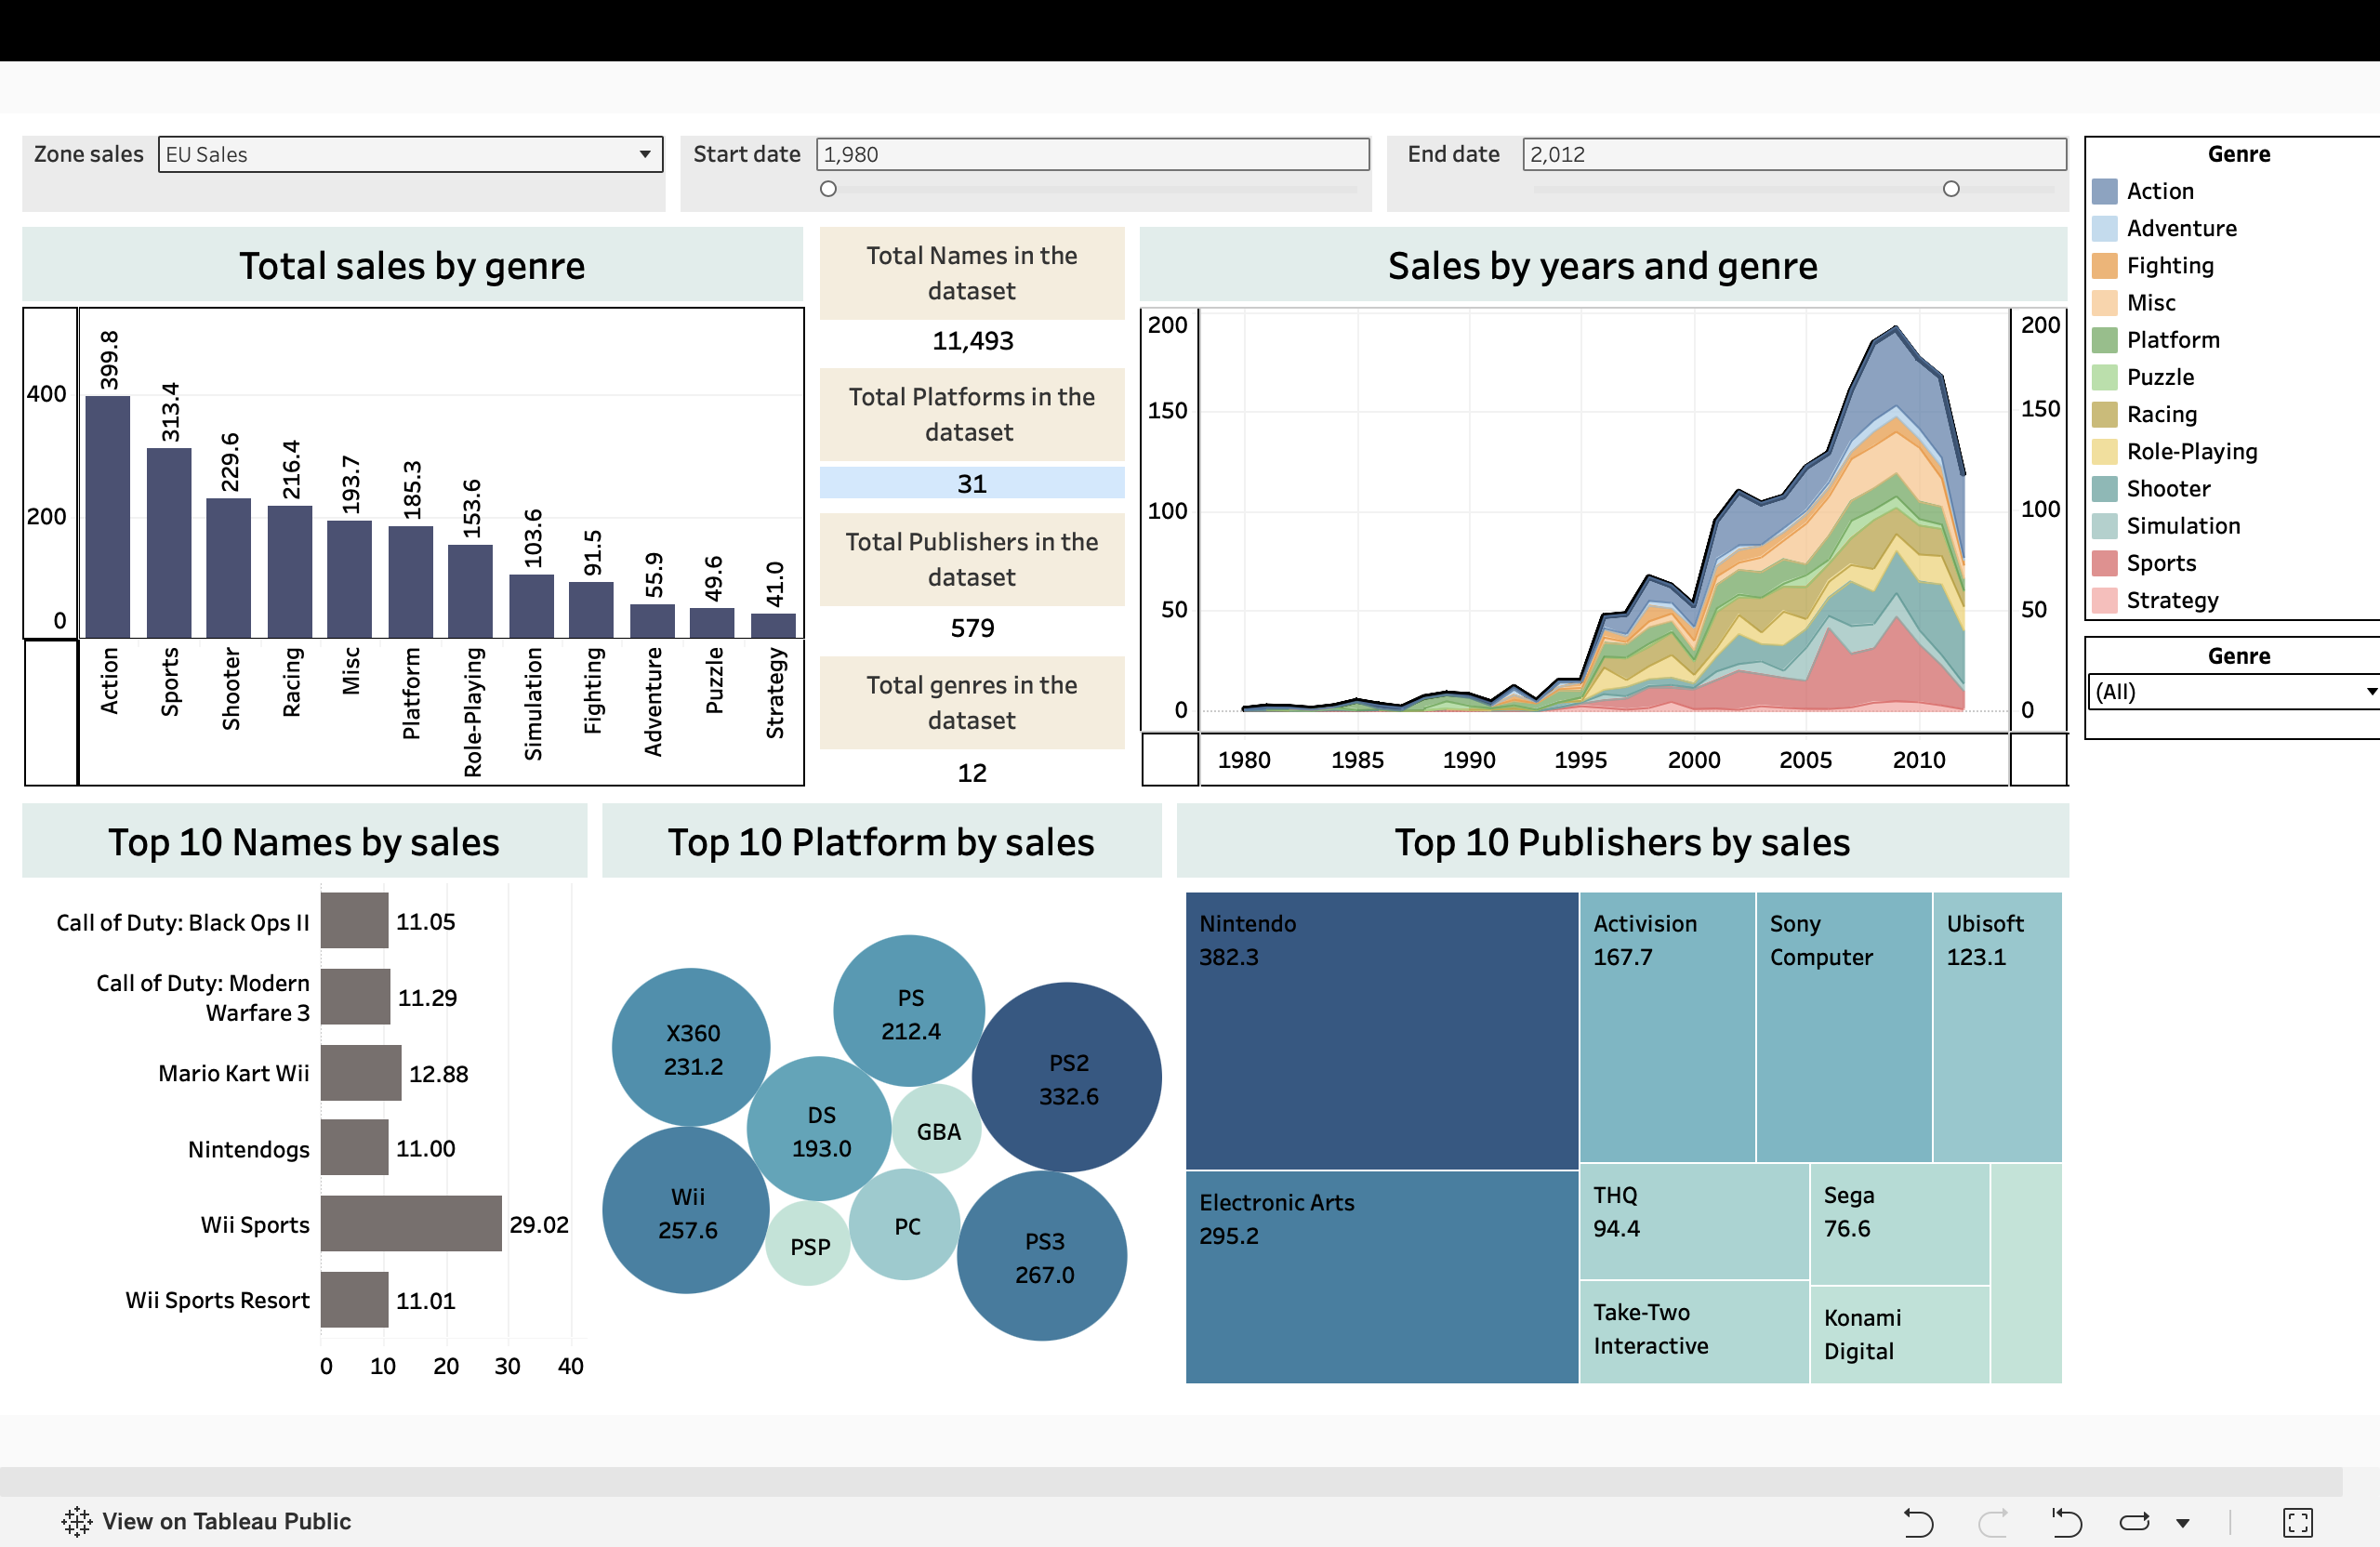

This screenshot's page, from the dashboard's own definition file:
{"tool":"tableau","page":{"name":"Global Video Game Sales Analytics Dashboard","canvas":[1300,700],"ordinal":0},"visuals":[{"type":"parameter","param":"[Parameters].[Parameter 2963771591692289]","box":[8,8,354,48.7]},{"type":"parameter","param":"[Parameters].[Parameter 2963771595165700]","box":[362,8,379.6,48.7]},{"type":"parameter","param":"[Parameters].[Parameter 2963771595337733]","box":[741.5,8,375.5,48.7]},{"type":"legend","title":"Sales by years and genre","param":"[federated.03yfix31b5uypm1bdwjye0vh6bp6].[none:Genre:nk]","box":[1117,8,175,268]},{"type":"worksheet","title":"Total sales by genre","mark":"Automatic","rows":["Calculation_2963771592220674"],"cols":["Genre"],"box":[8,56.7,429.2,309.8]},{"type":"worksheet","title":"Total Names in the dataset","mark":"Automatic","box":[437.2,56.7,171.4,76.3]},{"type":"worksheet","title":"Sales by years and genre","mark":"Automatic","rows":["Calculation_2963771592220674","Calculation_2963771592220674"],"cols":["Year"],"box":[608.6,56.7,508.4,309.8]},{"type":"worksheet","title":"Total Platforms in the dataset ","mark":"Automatic","box":[437.2,133,171.4,78.3]},{"type":"worksheet","title":"Total Publishers in the dataset ","mark":"Automatic","box":[437.2,211.3,171.4,76.7]},{"type":"filter","title":"Sales by years and genre","param":"[federated.03yfix31b5uypm1bdwjye0vh6bp6].[none:Genre:nk]","box":[1117,276,175,60]},{"type":"worksheet","title":"Total genres in the dataset","mark":"Automatic","box":[437.2,288,171.4,78.6]},{"type":"worksheet","title":"Top 10 Names by sales","mark":"Automatic","rows":["Name"],"cols":["Calculation_2963771592220674"],"box":[8,366.6,311.5,325.4]},{"type":"worksheet","title":"Top 10 Platform by sales","mark":"Circle","box":[319.5,366.6,309.1,325.4]},{"type":"worksheet","title":"Top 10 Publisher by sales","mark":"Automatic","box":[628.6,366.6,488.4,325.4]}]}

Visuals, with their boxes in screenshot pixels (x1, y1, x2, y2):
parameter: rect(71, 0, 709, 53)
parameter: rect(709, 0, 1395, 53)
parameter: rect(1395, 0, 2072, 53)
"Sales by years and genre" legend: rect(2072, 0, 2379, 449)
"Total sales by genre" worksheet: rect(71, 53, 845, 612)
"Total Names in the dataset" worksheet: rect(845, 53, 1155, 191)
"Sales by years and genre" worksheet: rect(1155, 53, 2072, 612)
"Total Platforms in the dataset " worksheet: rect(845, 191, 1155, 332)
"Total Publishers in the dataset " worksheet: rect(845, 332, 1155, 470)
"Sales by years and genre" filter: rect(2072, 449, 2379, 557)
"Total genres in the dataset" worksheet: rect(845, 470, 1155, 613)
"Top 10 Names by sales" worksheet: rect(71, 613, 632, 1200)
"Top 10 Platform by sales" worksheet (Circle marks): rect(632, 613, 1191, 1200)
"Top 10 Publisher by sales" worksheet: rect(1191, 613, 2072, 1200)
